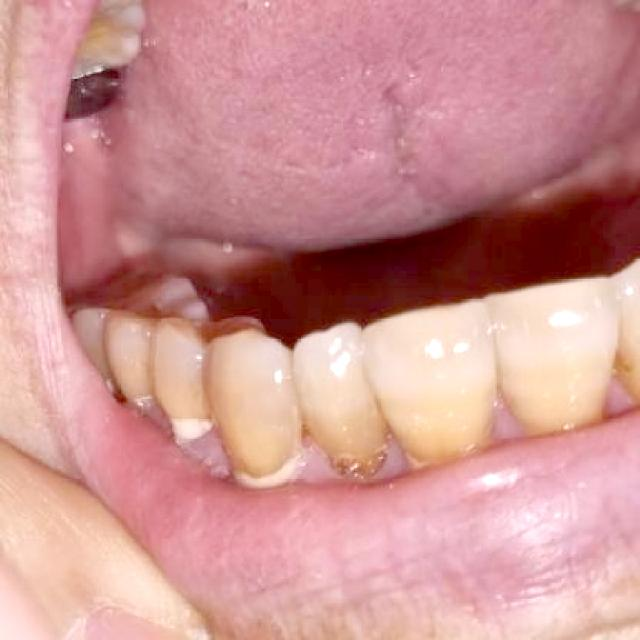Plaque: (326, 441, 376, 478)
